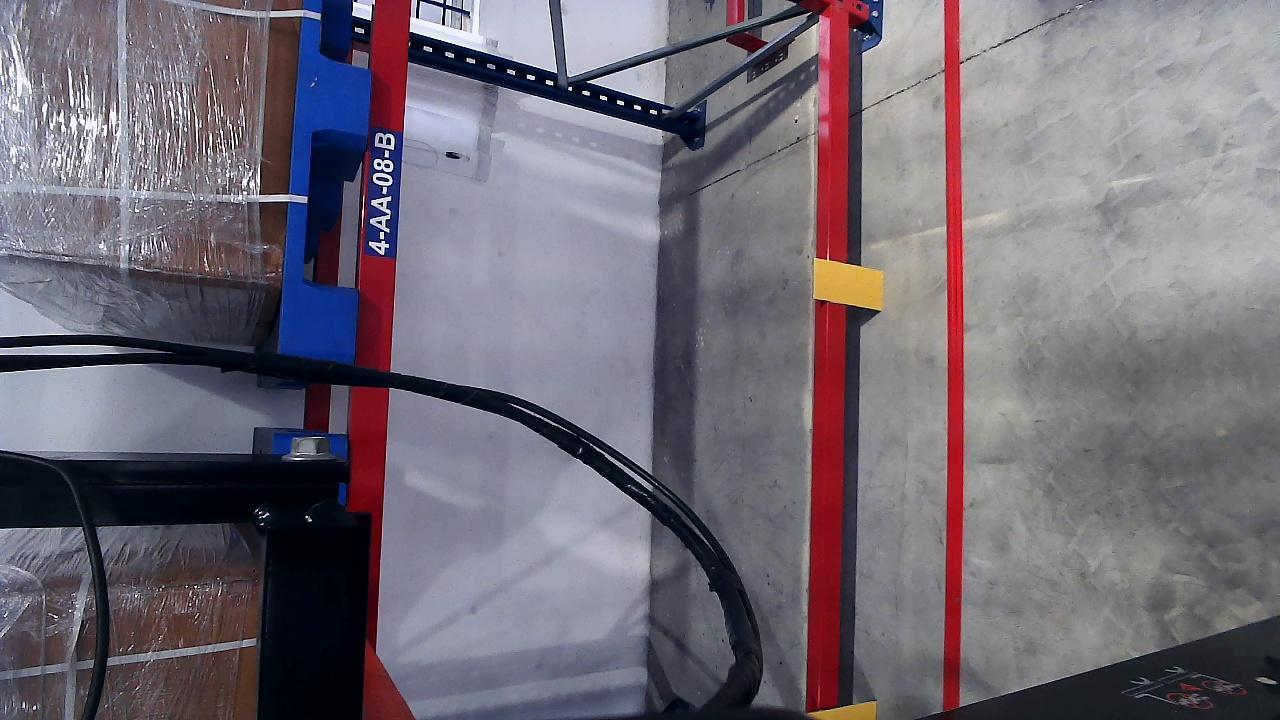red_line: (941, 16, 965, 704)
